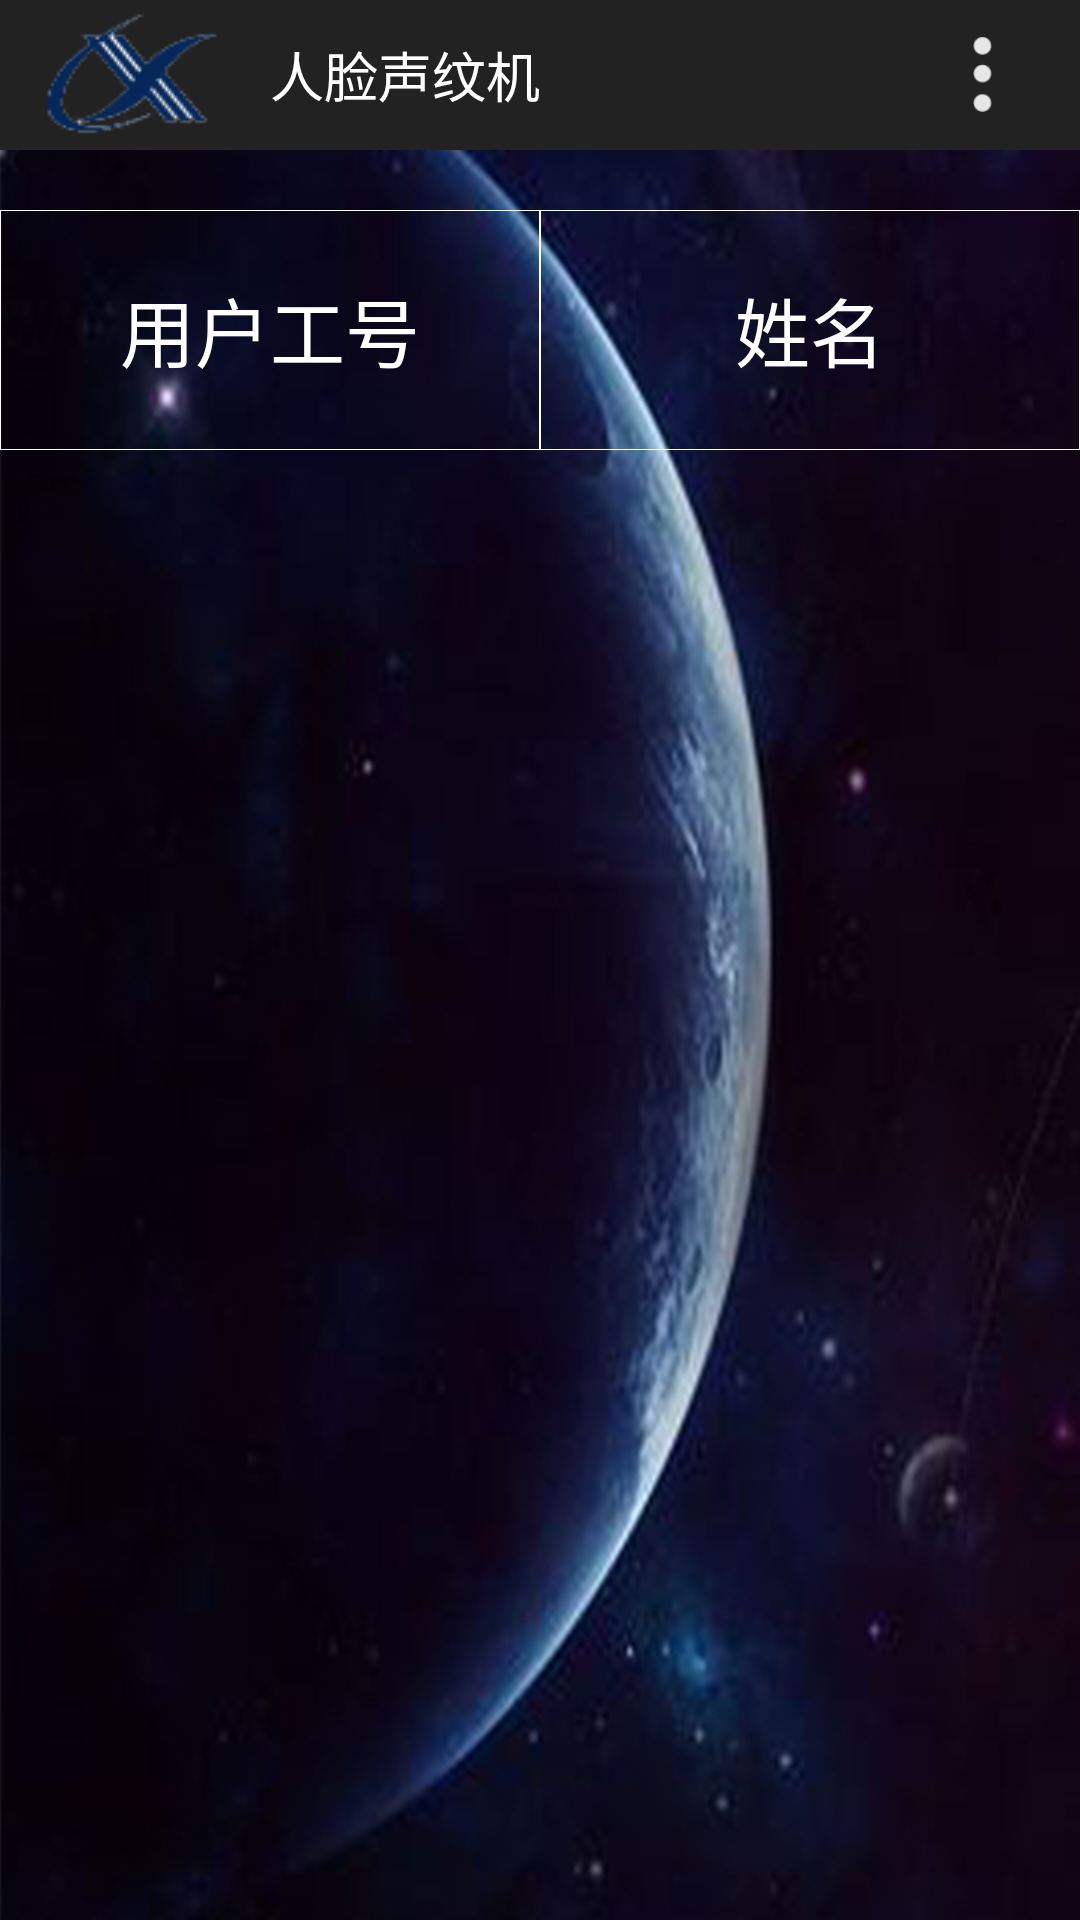

Icon bounding boxes for this 1080 x 1920 phone screenshot, format (x1, y1, x2, y2):
more: (973, 37, 992, 112)
